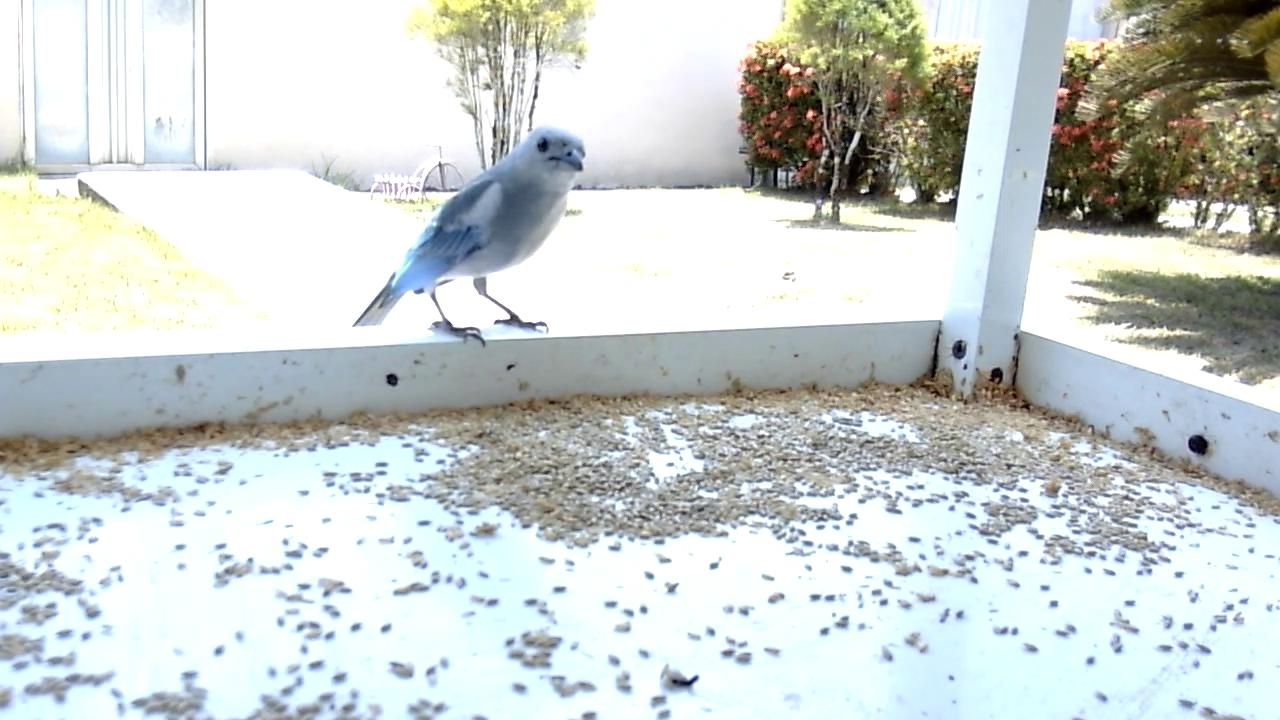sanhaco_da_amazonia: (352, 125, 589, 349)
